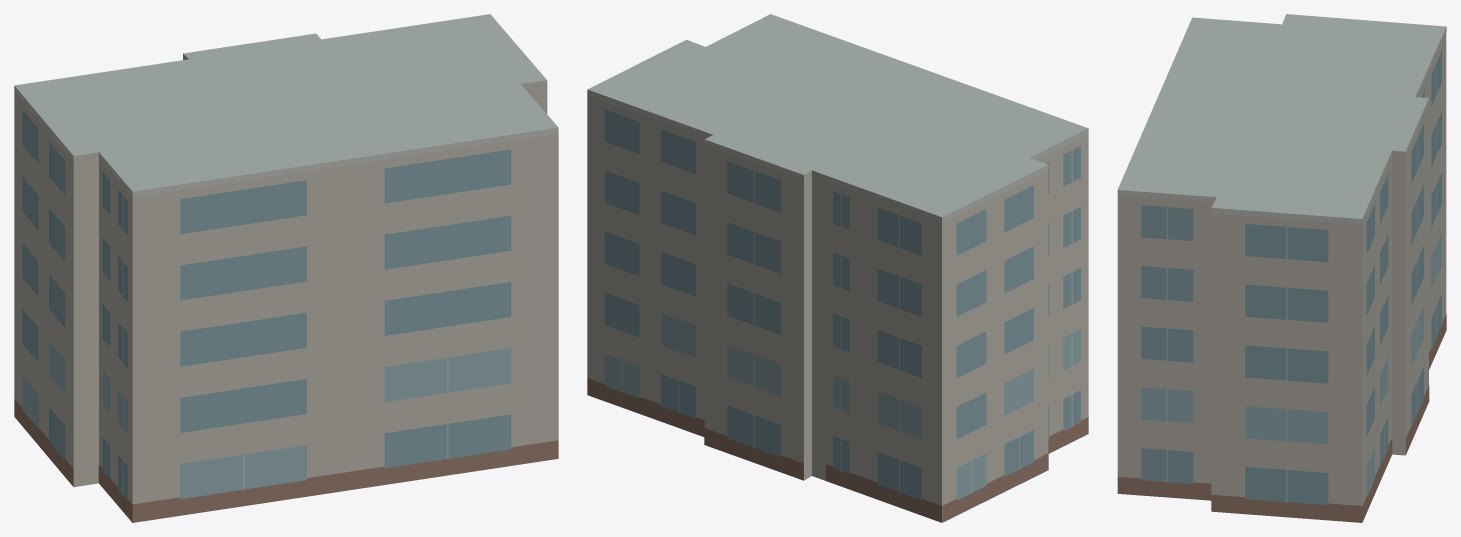
File: survey-upis-32623791.glb
3 renders of one model, left to right at view 1: azimuth 30°, elevation 25°; view 2: azimuth 150°, elevation 25°; view 3: azimuth 270°, elevation 25°, orthographic. The views are drawn at different scales.
Parts seen in each view (by area): view 1: survey-upis-32623791.tmp; view 2: survey-upis-32623791.tmp; view 3: survey-upis-32623791.tmp.
Part boxes in pixels (x1,y1,x2,y2): survey-upis-32623791.tmp: [14, 14, 558, 522]; survey-upis-32623791.tmp: [587, 14, 1088, 522]; survey-upis-32623791.tmp: [1117, 14, 1446, 522].
Size of the model in its own units: 19.99 by 13.8 by 13.55.
